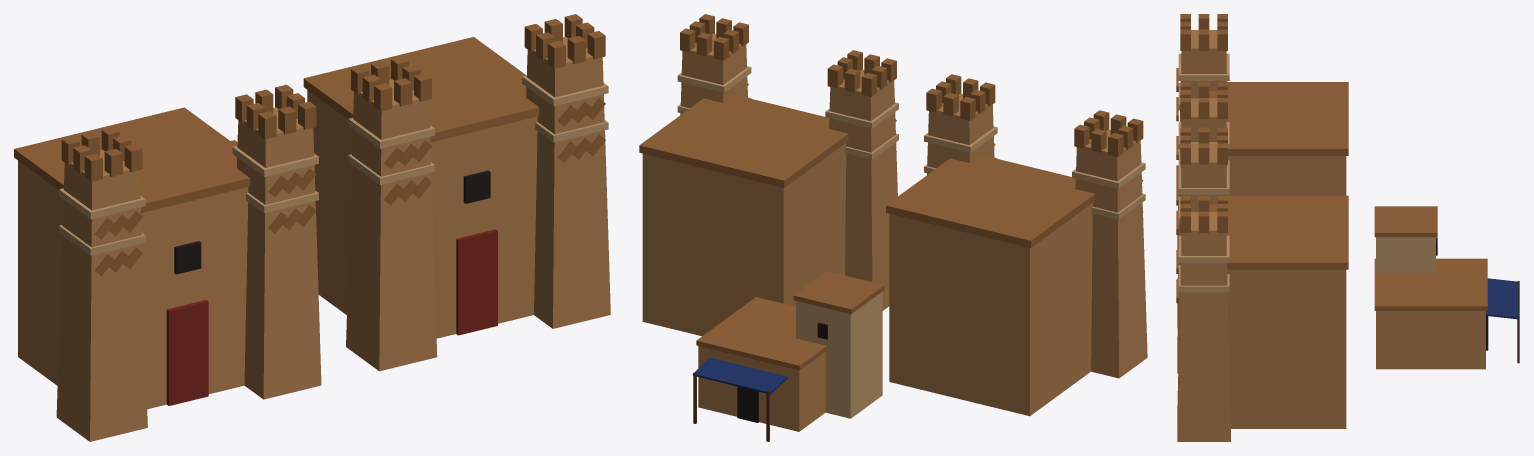
The model's file is fennec_row.glb.
The picture shows the model from 3 angles, left to right: view 1: azimuth 30°, elevation 25°; view 2: azimuth 150°, elevation 25°; view 3: azimuth 270°, elevation 25°; orthographic projection. The views are drawn at different scales.
Parts seen in each view (by area): view 1: fennec_row; view 2: fennec_row; view 3: fennec_row.
Boxes of the visible parts, x1=… form: fennec_row: x1=14, y1=14, x2=610, y2=441; fennec_row: x1=639, y1=14, x2=1147, y2=441; fennec_row: x1=1176, y1=14, x2=1519, y2=441.
Size of the model in its own units: 6.3 by 3.22 by 4.47.
